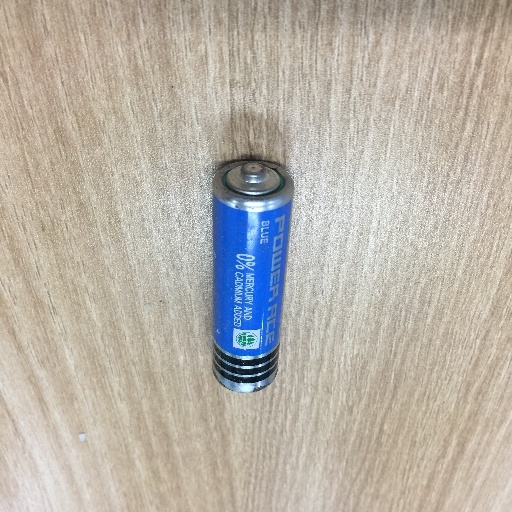Battery_0: (203, 142, 306, 407)
